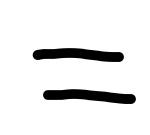eqv: (33, 48, 136, 104)
